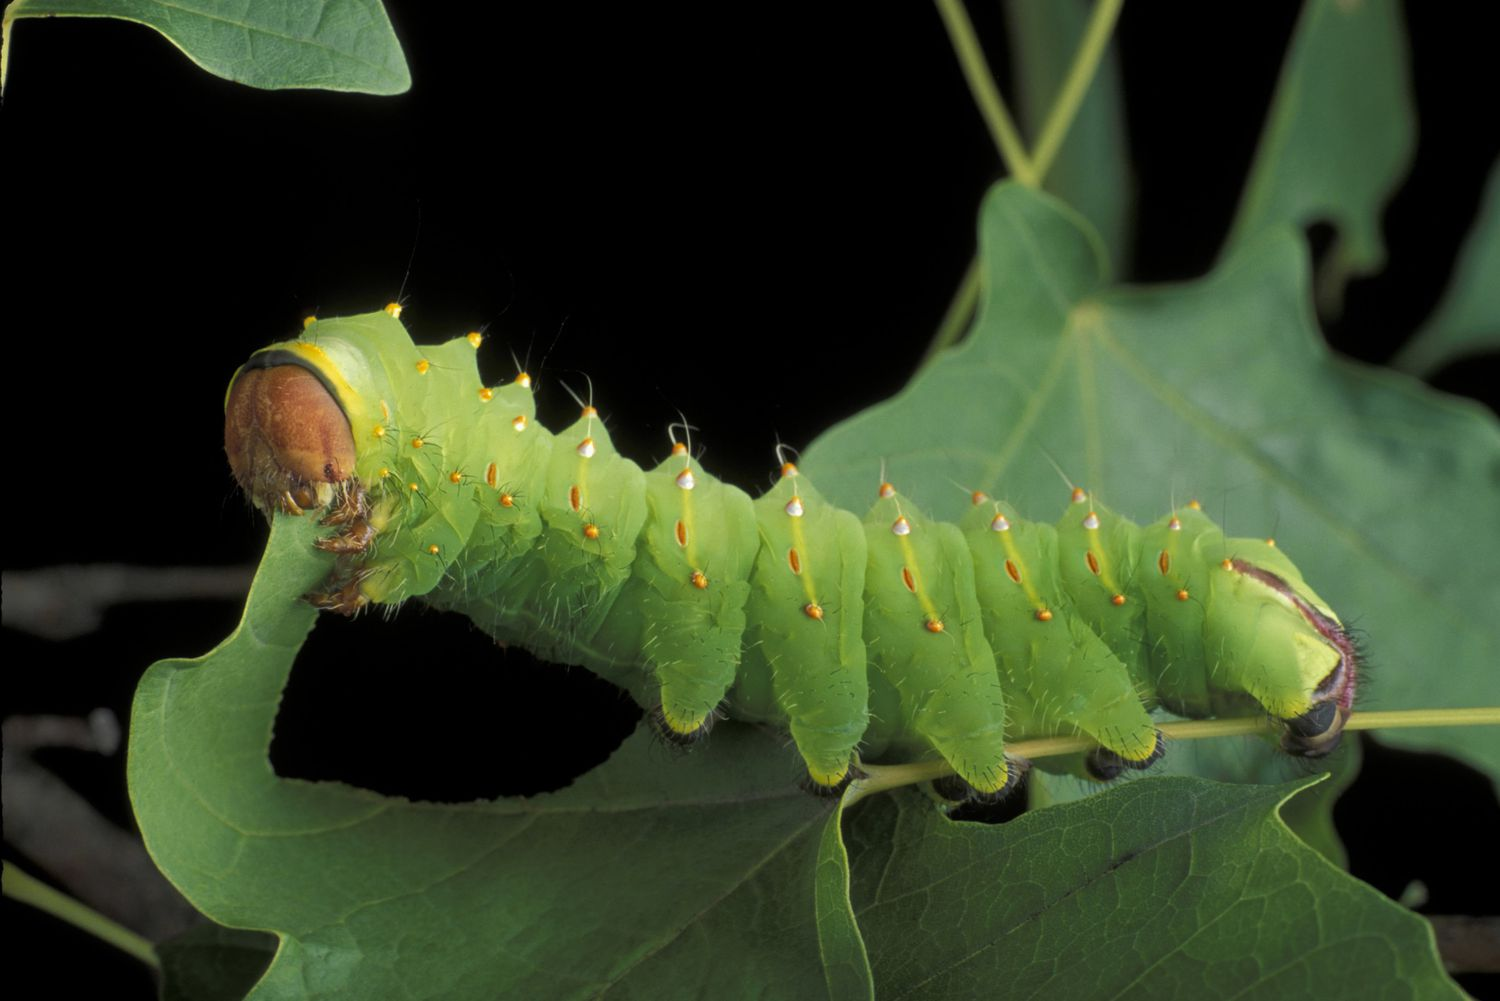Caterpillar: (224, 285, 1365, 797)
